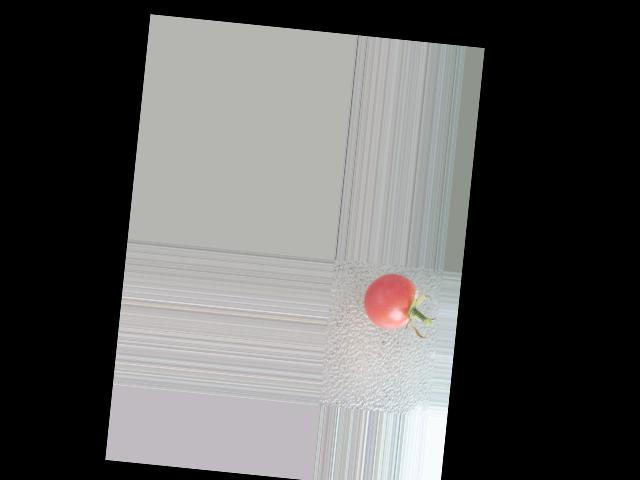tomato: (360, 271, 417, 332)
